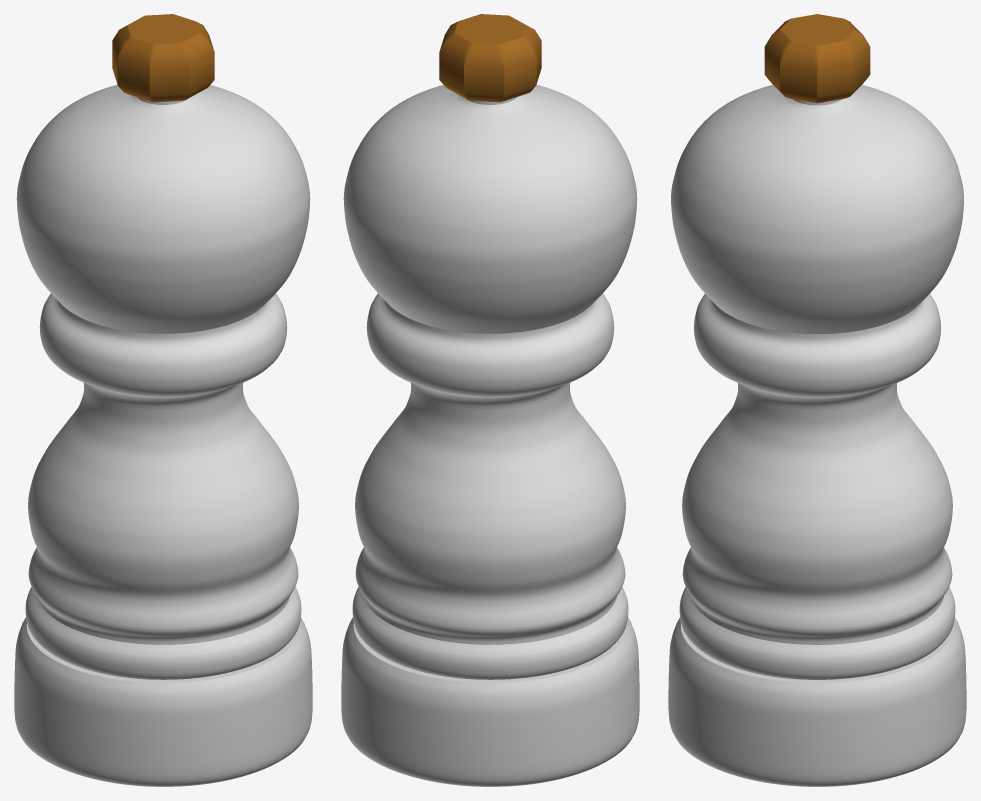
3 views of the same model, side by side, from view 1: azimuth 30°, elevation 25°; view 2: azimuth 150°, elevation 25°; view 3: azimuth 270°, elevation 25° (orthographic).
Parts seen in each view (by area): view 1: part_009_Hollow_reservoir_body, part_006_Removable_oval_head, part_000_Wooden_adjustment_sleeve, part_011_Faceted_retaining_thumb_nut; view 2: part_009_Hollow_reservoir_body, part_006_Removable_oval_head, part_000_Wooden_adjustment_sleeve, part_011_Faceted_retaining_thumb_nut; view 3: part_009_Hollow_reservoir_body, part_006_Removable_oval_head, part_000_Wooden_adjustment_sleeve, part_011_Faceted_retaining_thumb_nut.
Part boxes in pixels (left/top/right/bottom): part_009_Hollow_reservoir_body: left=25, top=293, right=301, bottom=679; part_006_Removable_oval_head: left=16, top=84, right=310, bottom=333; part_000_Wooden_adjustment_sleeve: left=14, top=617, right=312, bottom=786; part_011_Faceted_retaining_thumb_nut: left=112, top=14, right=214, bottom=102; part_009_Hollow_reservoir_body: left=352, top=293, right=628, bottom=679; part_006_Removable_oval_head: left=343, top=84, right=637, bottom=333; part_000_Wooden_adjustment_sleeve: left=341, top=617, right=639, bottom=786; part_011_Faceted_retaining_thumb_nut: left=439, top=14, right=541, bottom=102; part_009_Hollow_reservoir_body: left=679, top=294, right=955, bottom=679; part_006_Removable_oval_head: left=671, top=85, right=963, bottom=333; part_000_Wooden_adjustment_sleeve: left=668, top=617, right=966, bottom=786; part_011_Faceted_retaining_thumb_nut: left=764, top=14, right=870, bottom=103.
Size of the model in its own units: 0.048 by 0.124 by 0.048.
